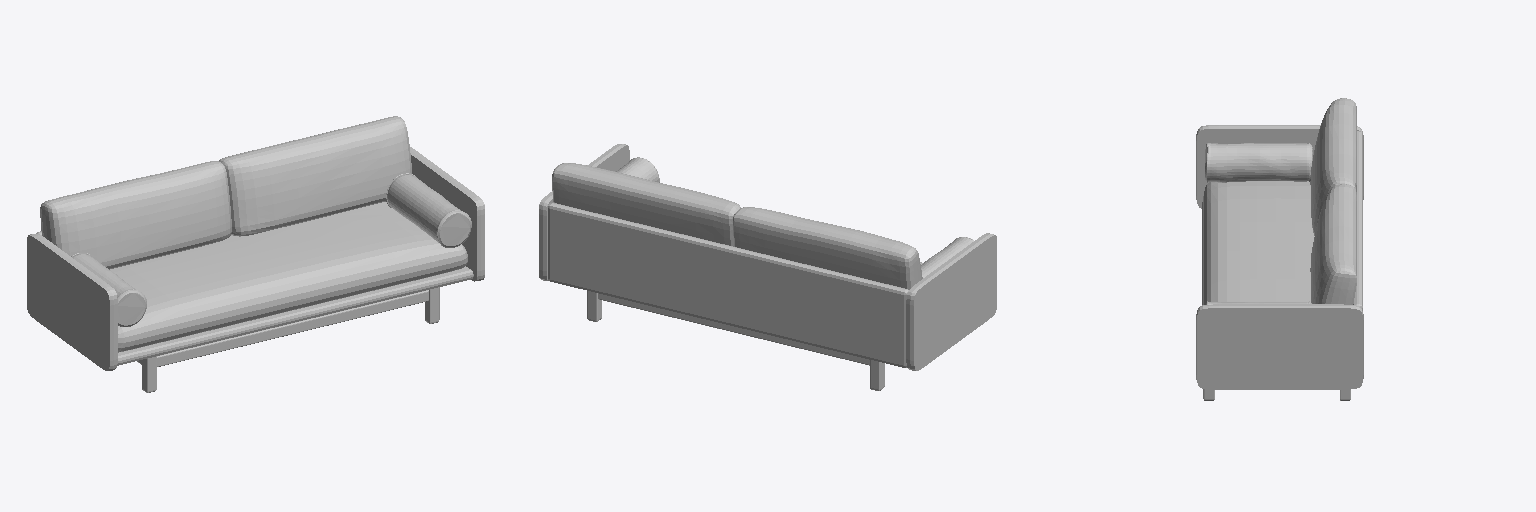
The model's file is couch_real.obj.
3 renders of one model, left to right at view 1: azimuth 30°, elevation 25°; view 2: azimuth 150°, elevation 25°; view 3: azimuth 270°, elevation 25°, orthographic.
Parts seen in each view (by area): view 1: Box002, Box004, Box003, Box007, Box001, Cylinder001, ChamferBox005, Box008, Cylinder002; view 2: Box005, Box003, Box004, Box007, ChamferBox006, Box008, Cylinder002, Cylinder001; view 3: Box008, Box002, Box004, Cylinder002, Box003, Box007, Box005.
Part boxes in pixels (x1,y1,x2,y2): Box002: (110,202,467,352); Box004: (219,116,411,236); Box003: (40,161,231,269); Box007: (27,233,117,370); Box001: (117,266,473,365); Cylinder001: (386,173,471,247); ChamferBox005: (157,290,428,366); Box008: (410,147,484,281); Cylinder002: (71,253,146,326); Box005: (548,203,908,367); Box003: (733,207,922,289); Box004: (552,163,740,246); Box007: (906,233,996,370); ChamferBox006: (598,293,869,365); Box008: (539,144,629,280); Cylinder002: (921,237,973,277); Cylinder001: (616,157,659,182); Box008: (1196,304,1363,389); Box002: (1203,181,1314,304); Box004: (1310,184,1356,304); Cylinder002: (1205,143,1312,182); Box003: (1310,98,1356,235); Box007: (1196,125,1363,208); Box005: (1353,131,1362,310).
Size of the model in its own units: 115 by 43.51 by 44.59.